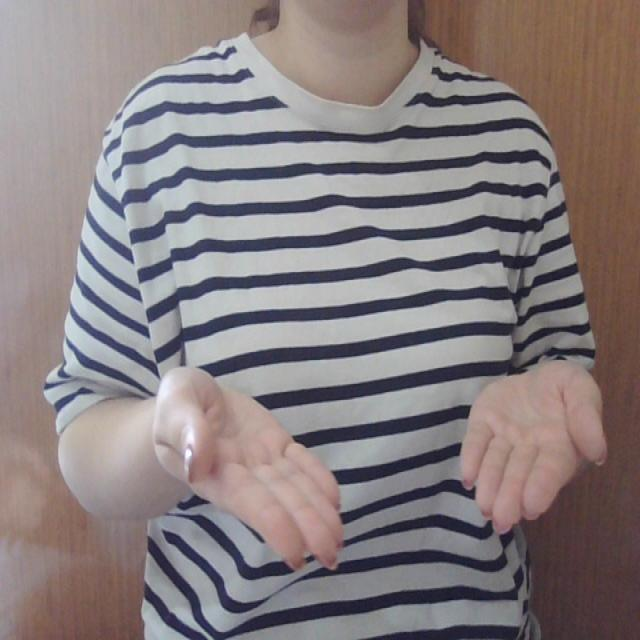Evet: (145, 354, 611, 584)
